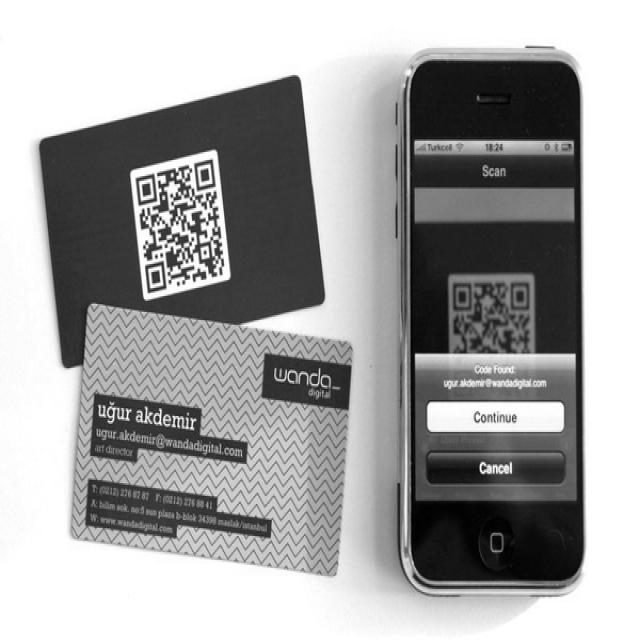QR-codes: (133, 165, 228, 291)
